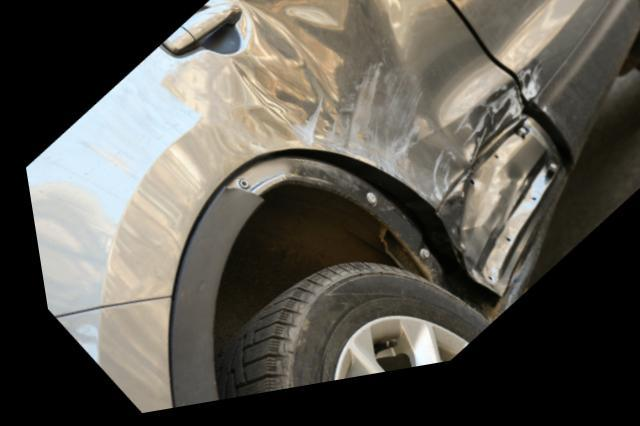dent: (208, 0, 551, 294)
